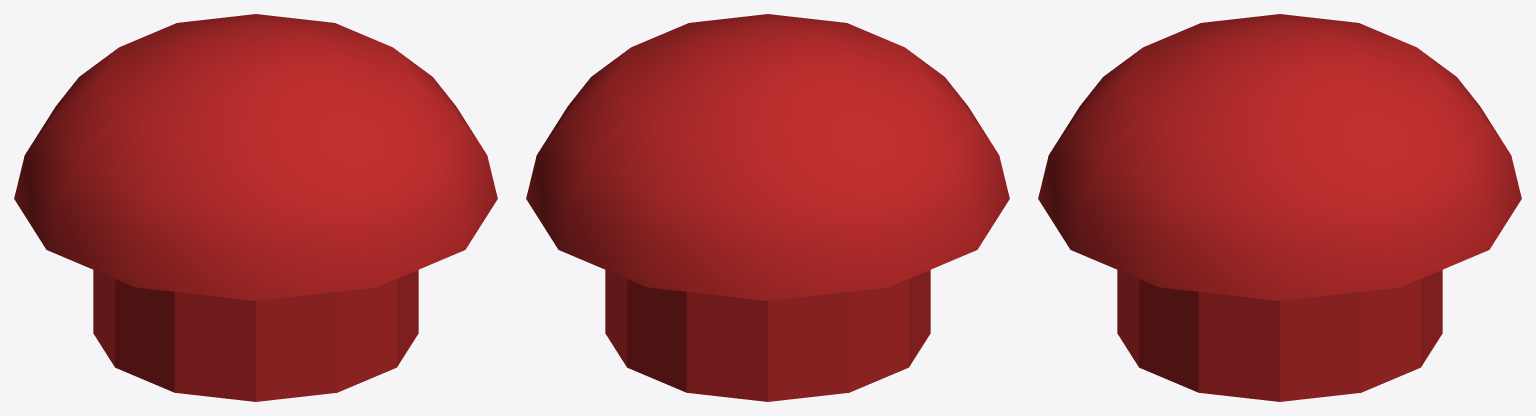
The model's file is redButton.fbx.
The picture shows the model from 3 angles, left to right: view 1: azimuth 30°, elevation 25°; view 2: azimuth 150°, elevation 25°; view 3: azimuth 270°, elevation 25°; orthographic projection.
Visible parts, largest first — view 1: redButton; view 2: redButton; view 3: redButton.
Boxes of the visible parts, <box> form: redButton: <box>14,14,497,401</box>; redButton: <box>526,14,1009,401</box>; redButton: <box>1038,14,1521,401</box>.
Bounding box in the file's own units: 8.46 × 5.42 × 8.46.
